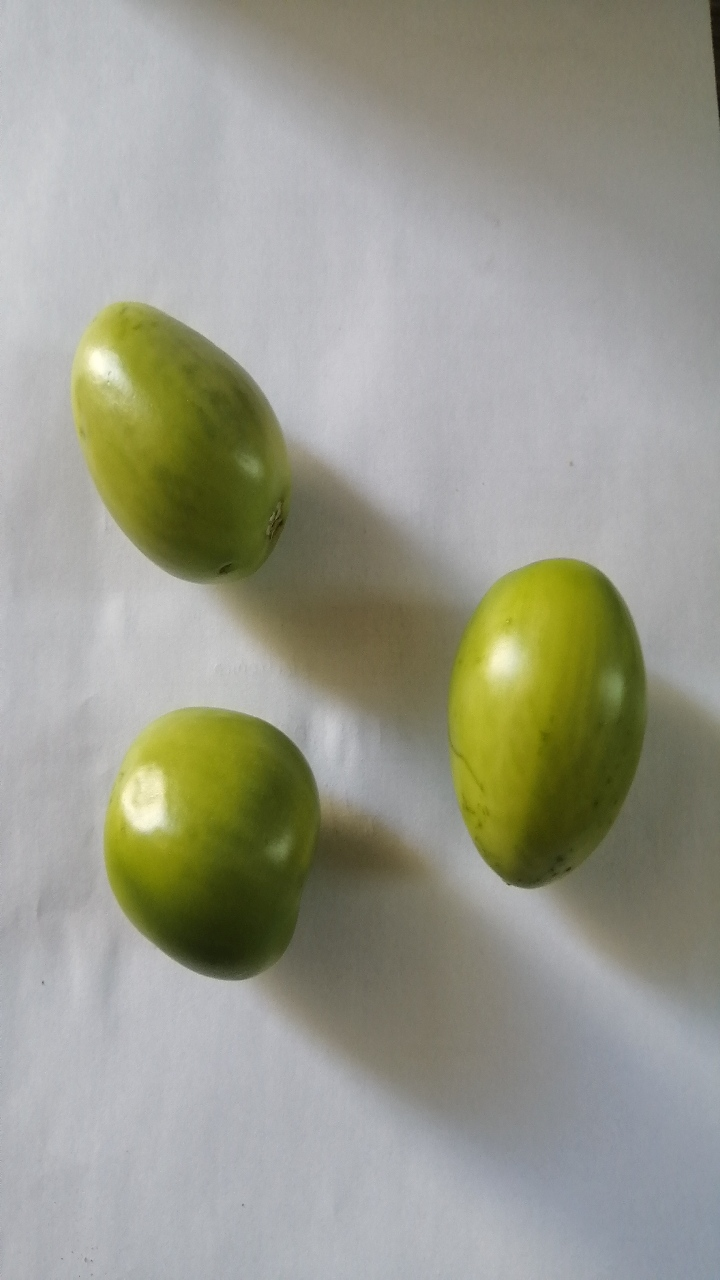tomateVerde: (409, 543, 660, 906), (64, 277, 308, 594), (92, 677, 323, 991)
